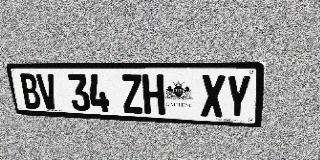3: (67, 74, 91, 111)
4: (87, 74, 110, 112)
B: (18, 74, 42, 109)
H: (142, 75, 165, 115)
V: (36, 74, 59, 110)
X: (201, 75, 225, 117)
Y: (225, 75, 252, 118)
Z: (120, 74, 144, 114)
